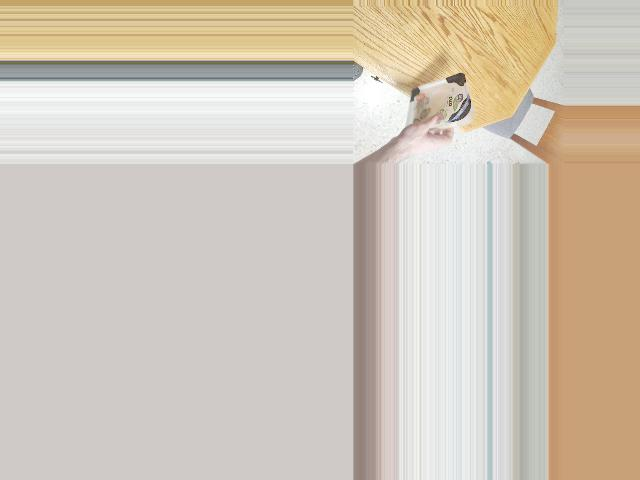cheese: (402, 79, 476, 129)
